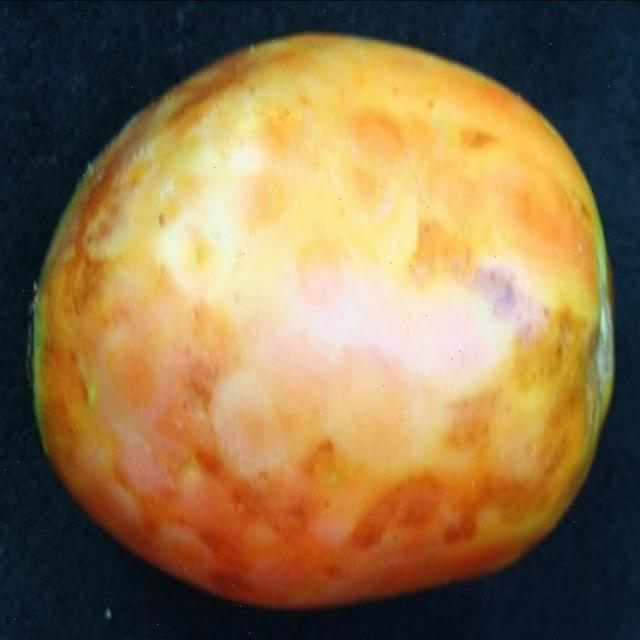Spotted wilt Virus Fruit: (21, 23, 414, 408)
